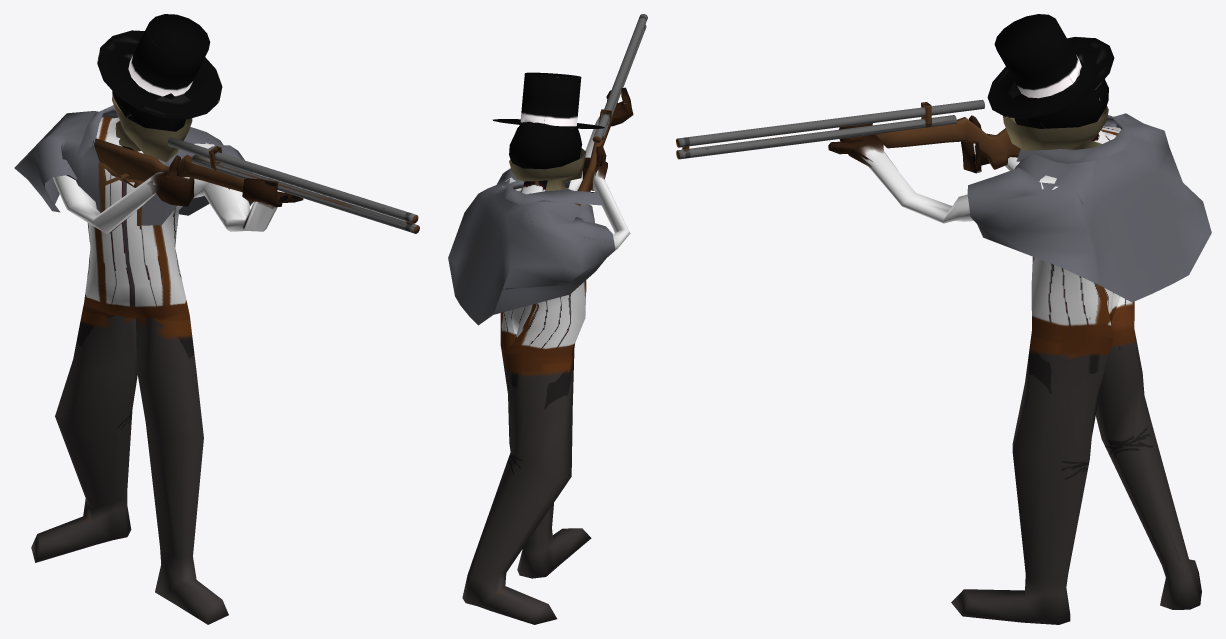
Rendered from Nod_2.obj.
3 views of the same model, side by side, from view 1: azimuth 30°, elevation 25°; view 2: azimuth 150°, elevation 25°; view 3: azimuth 270°, elevation 25° (orthographic). The views are drawn at different scales.
Visible parts, largest first — view 1: Body_Cube.007, Hat_Cylinder.001, Cloak_Cube.006, Rifle_Cube_Cube_Wood, Scarf_Cube.008; view 2: Body_Cube.007, Cloak_Cube.006, Hat_Cylinder.001, Rifle_Cube_Cube_Wood, Scarf_Cube.008; view 3: Body_Cube.007, Cloak_Cube.006, Hat_Cylinder.001, Rifle_Cube_Cube_Wood, Scarf_Cube.008.
Part boxes in pixels (x1,y1,x2,y2): Body_Cube.007: [31, 89, 303, 624]; Hat_Cylinder.001: [97, 14, 222, 119]; Cloak_Cube.006: [14, 105, 253, 225]; Rifle_Cube_Cube_Wood: [94, 137, 419, 233]; Scarf_Cube.008: [112, 93, 192, 162]; Body_Cube.007: [462, 87, 633, 624]; Cloak_Cube.006: [448, 168, 615, 325]; Hat_Cylinder.001: [492, 72, 604, 128]; Rifle_Cube_Cube_Wood: [574, 14, 647, 206]; Scarf_Cube.008: [509, 148, 585, 192]; Body_Cube.007: [828, 60, 1201, 624]; Cloak_Cube.006: [967, 113, 1211, 302]; Hat_Cylinder.001: [987, 14, 1114, 118]; Rifle_Cube_Cube_Wood: [676, 99, 1020, 169]; Scarf_Cube.008: [1003, 106, 1108, 150].
Size of the model in its own units: 1.98 by 5.72 by 4.71.
